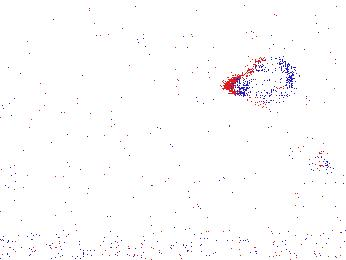flame jellyfish: (226, 57, 302, 106), (304, 150, 346, 226)
